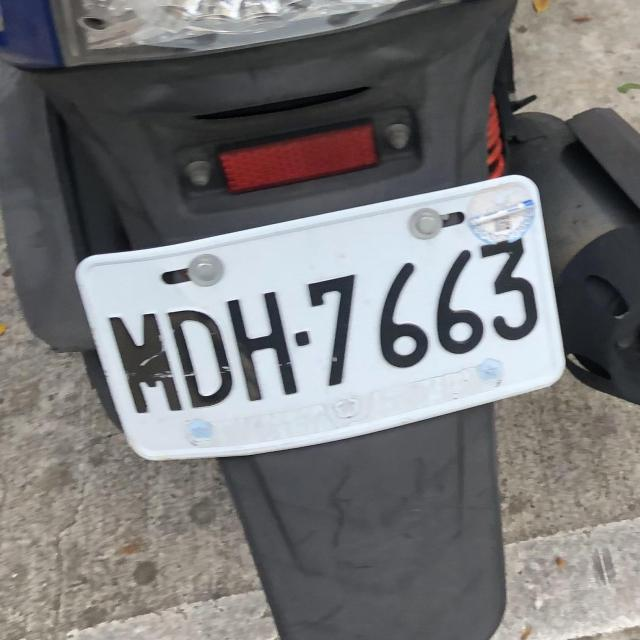W: (73, 175, 568, 463)
